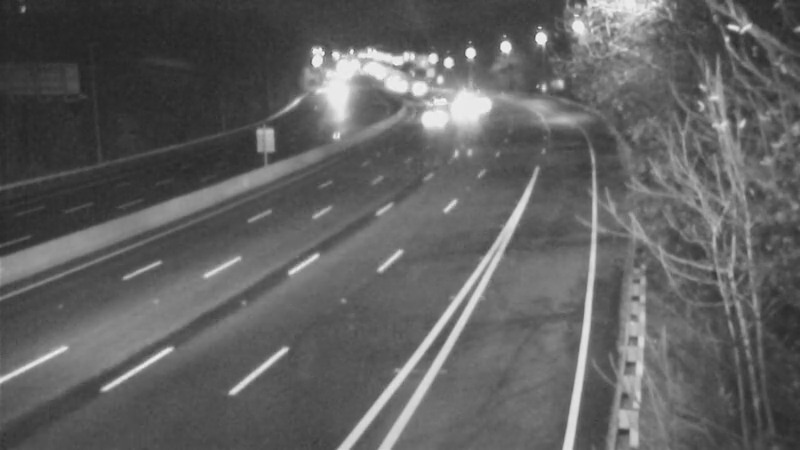vehicle: (456, 77, 506, 127), (445, 84, 495, 134), (407, 93, 457, 143)
